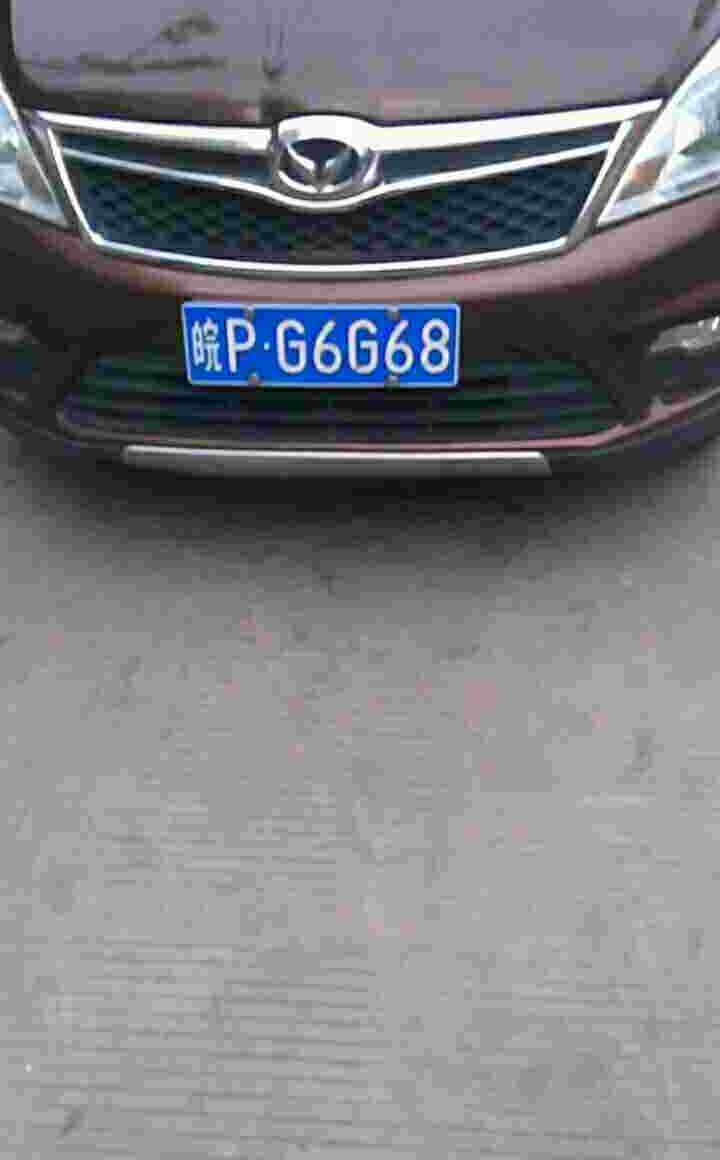plate: (185, 301, 467, 390)
